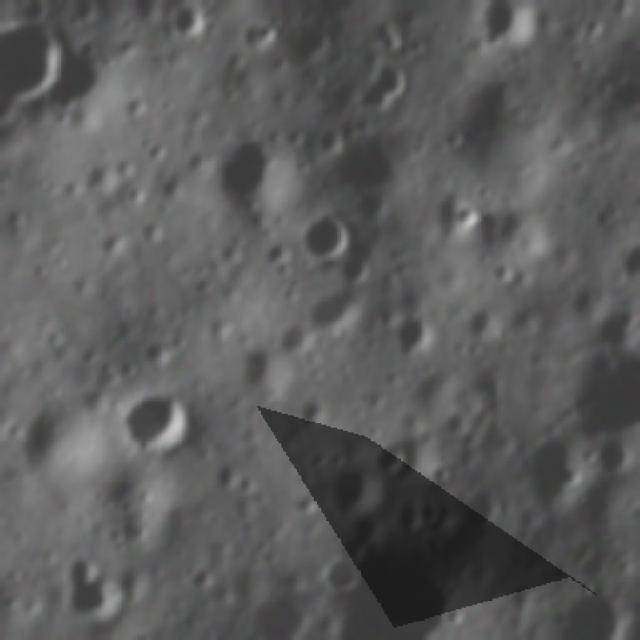crater: (215, 124, 300, 213), (512, 427, 594, 515), (0, 11, 74, 106), (118, 384, 202, 458), (64, 549, 141, 617), (552, 572, 634, 634), (324, 453, 394, 521), (299, 277, 370, 338), (349, 51, 418, 111), (243, 583, 320, 634), (232, 338, 297, 397), (470, 0, 541, 52), (295, 205, 359, 261), (387, 309, 444, 357), (461, 480, 512, 532), (314, 548, 363, 600), (591, 430, 638, 482), (459, 295, 508, 342), (373, 429, 422, 476), (158, 0, 214, 40), (612, 228, 640, 292), (252, 8, 293, 50), (448, 196, 484, 235)
